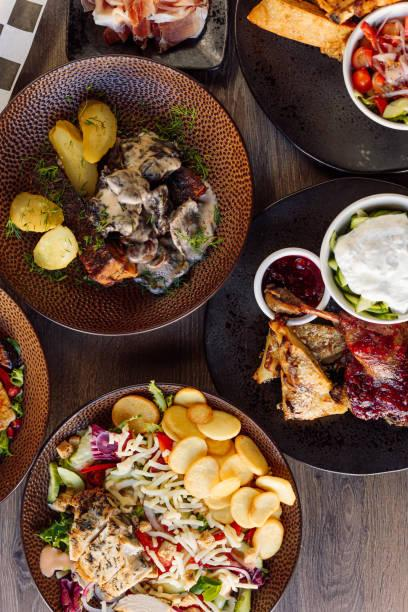Braised Crucian Carp: (0, 48, 255, 342), (14, 377, 315, 612), (198, 180, 408, 477)
